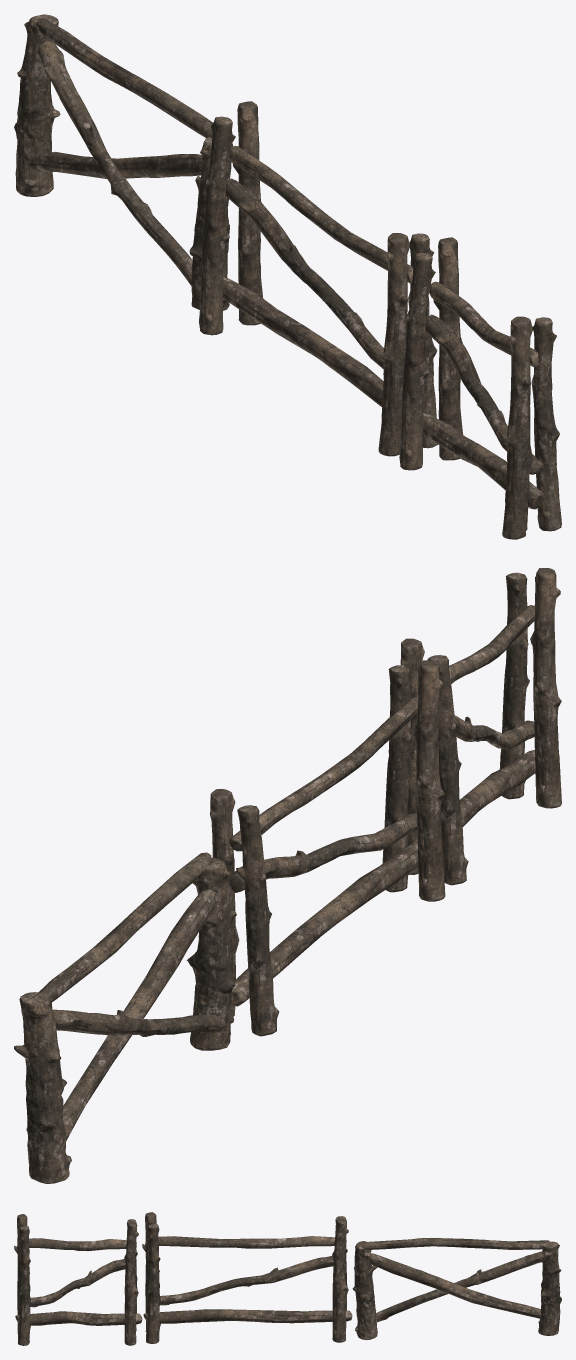
File: SM_Fence_01b_Splines_25.fbx
3 views of the same model, one above another, from view 1: azimuth 30°, elevation 25°; view 2: azimuth 150°, elevation 25°; view 3: azimuth 270°, elevation 25° (orthographic). The views are drawn at different scales.
Visible parts, largest first — view 1: SM_Fence_01b_Splines_19_LOD0; view 2: SM_Fence_01b_Splines_19_LOD0; view 3: SM_Fence_01b_Splines_19_LOD0.
Boxes of the visible parts, <box> form: SM_Fence_01b_Splines_19_LOD0: <box>14,14,561,539</box>; SM_Fence_01b_Splines_19_LOD0: <box>14,568,561,1183</box>; SM_Fence_01b_Splines_19_LOD0: <box>14,1212,561,1345</box>.
Size of the model in its own units: 50.52 by 579 by 140.
